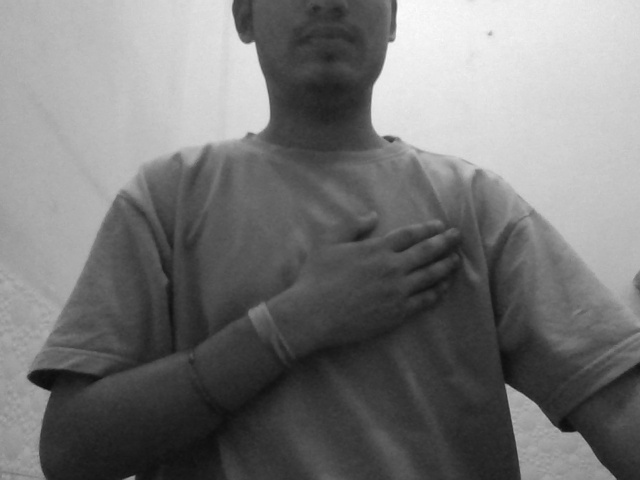Sorry: (240, 188, 494, 388)
